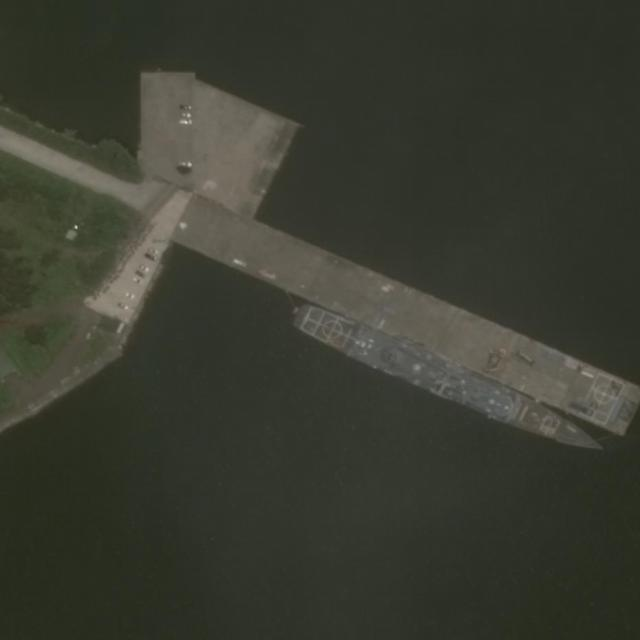Frigate: (290, 299, 609, 462)
